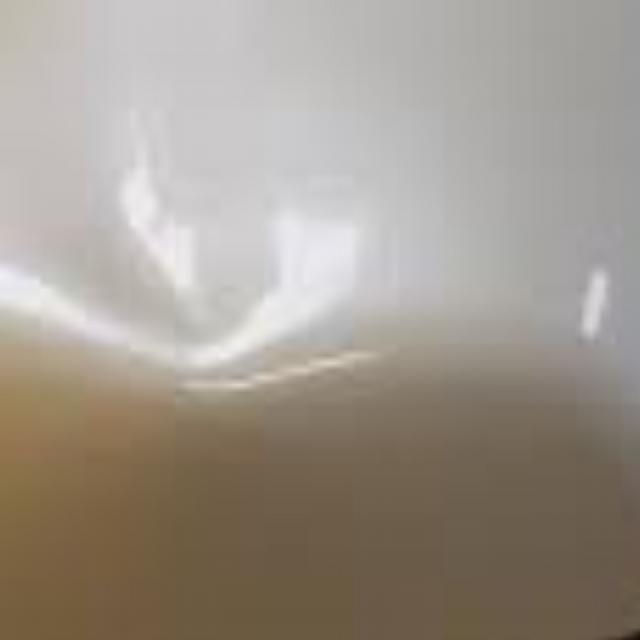dents: (32, 110, 356, 396)
